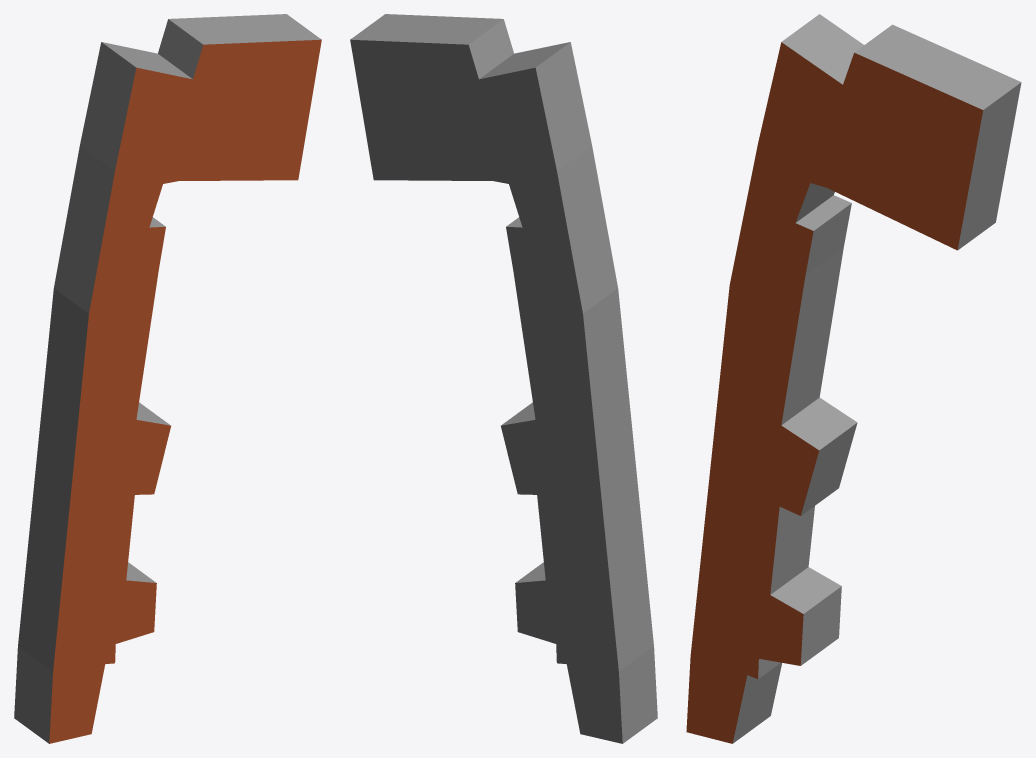
The model's file is construction_4659_assumed_A_Casa_h6m.obj.
The picture shows the model from 3 angles, left to right: view 1: azimuth 30°, elevation 25°; view 2: azimuth 150°, elevation 25°; view 3: azimuth 330°, elevation 25°; orthographic projection. The views are drawn at different scales.
Parts seen in each view (by area): view 1: construction_4659_assumed_A_Casa; view 2: construction_4659_assumed_A_Casa; view 3: construction_4659_assumed_A_Casa.
Boxes of the visible parts, x1,y1,x2,y2 form: construction_4659_assumed_A_Casa: (14,14,321,743); construction_4659_assumed_A_Casa: (350,14,657,743); construction_4659_assumed_A_Casa: (686,14,1021,743).
Size of the model in its own units: 26.86 by 62.35 by 6.
